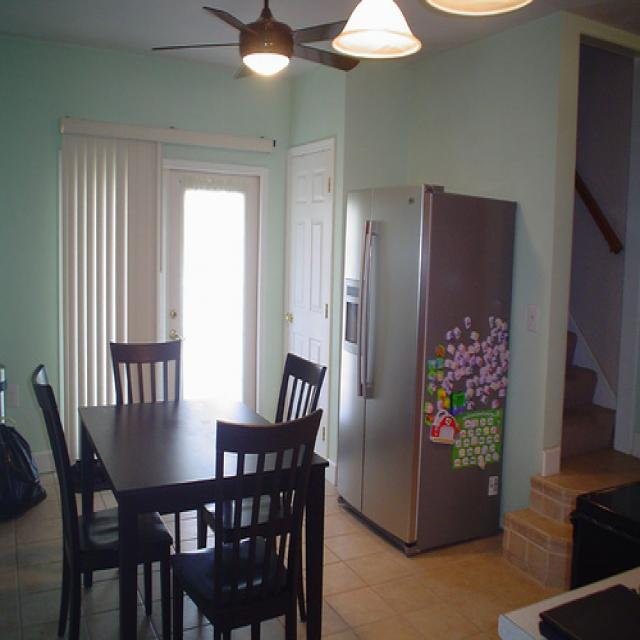chair: (31, 362, 174, 640), (168, 405, 326, 640), (110, 340, 181, 407), (275, 354, 326, 419)
dining table: (78, 392, 328, 632)
